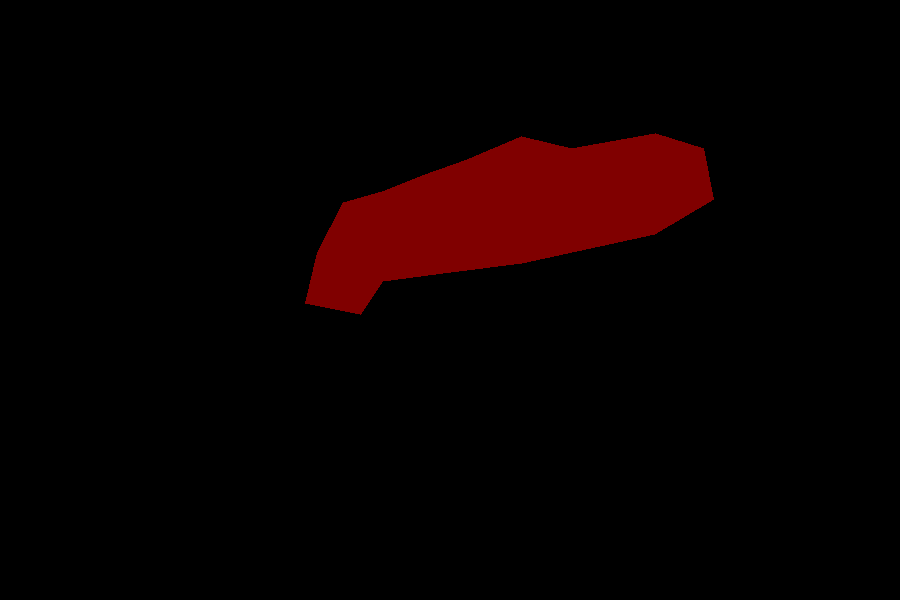fire: (305, 133, 713, 314)
